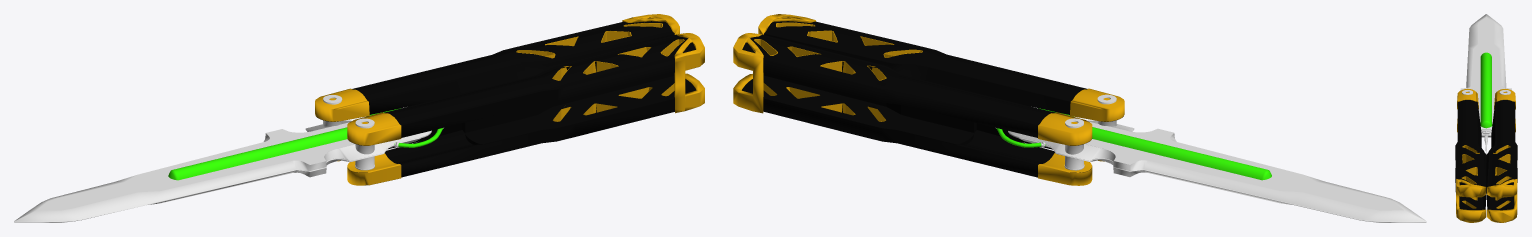
The picture shows the model from 3 angles, left to right: view 1: azimuth 30°, elevation 25°; view 2: azimuth 150°, elevation 25°; view 3: azimuth 270°, elevation 25°; orthographic projection. The views are drawn at different scales.
Parts seen in each view (by area): view 1: Object_10, Object_15, Object_11, Object_20; view 2: Object_10, Object_15, Object_11, Object_20; view 3: Object_10, Object_11, Object_15, Object_20.
Boxes of the visible parts, bbox=[...] form: Object_10: bbox=[316, 17, 696, 177]; Object_15: bbox=[14, 95, 443, 222]; Object_11: bbox=[315, 14, 704, 185]; Object_20: bbox=[168, 108, 442, 180]; Object_10: bbox=[742, 17, 1123, 177]; Object_15: bbox=[995, 94, 1426, 222]; Object_11: bbox=[733, 14, 1124, 185]; Object_20: bbox=[996, 108, 1271, 180]; Object_10: bbox=[1455, 100, 1517, 210]; Object_11: bbox=[1456, 88, 1517, 222]; Object_15: bbox=[1460, 14, 1511, 154]; Object_20: bbox=[1480, 52, 1492, 128].
Bounding box in the file's own units: 4.47 × 0.3946 × 0.6163.
